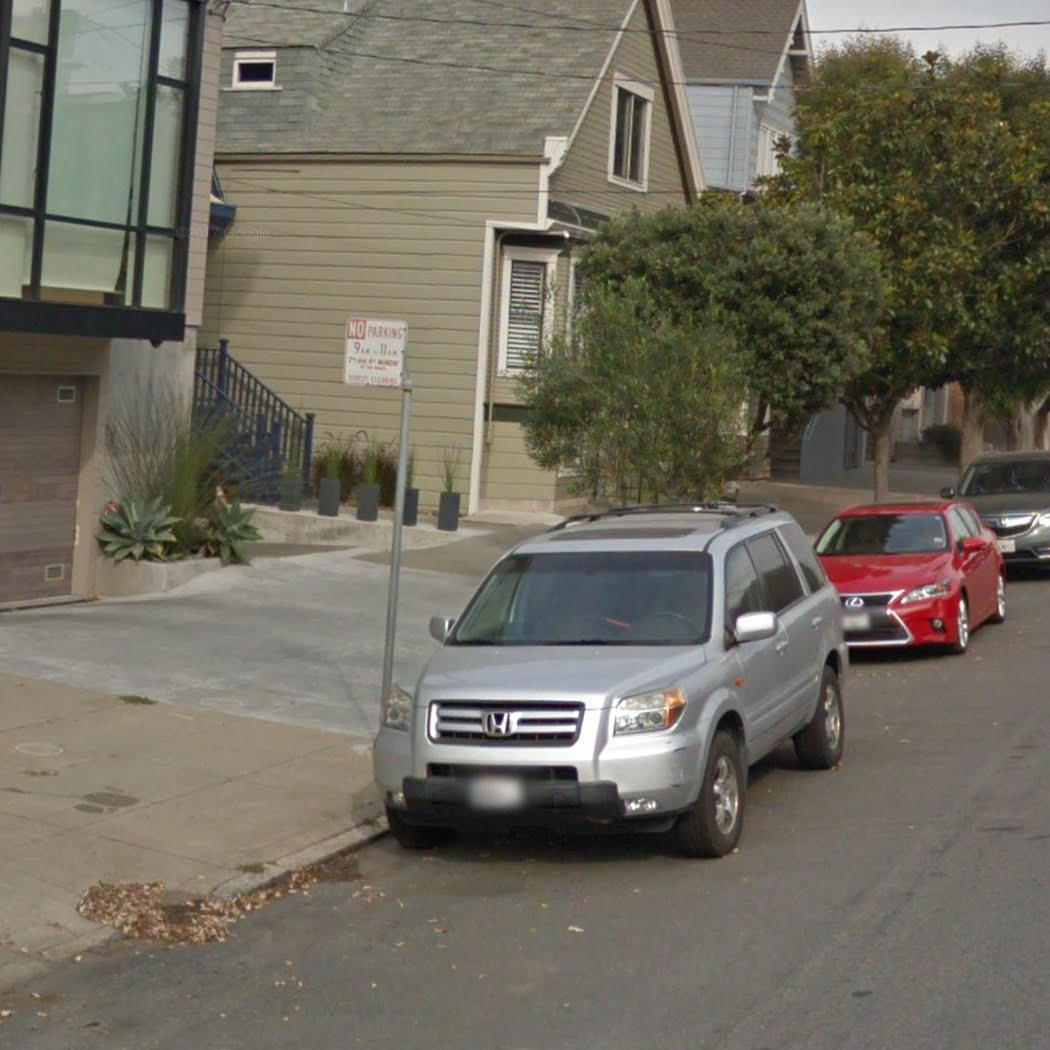No Parking: (339, 312, 412, 393)
